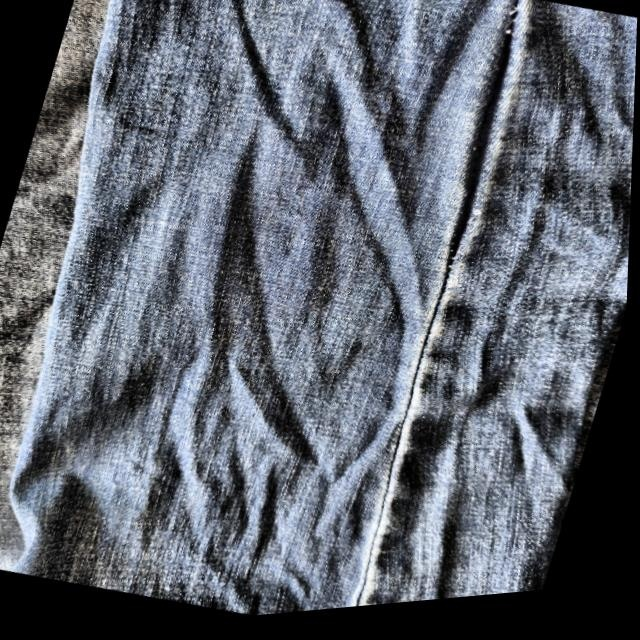seam: (406, 0, 570, 295)
